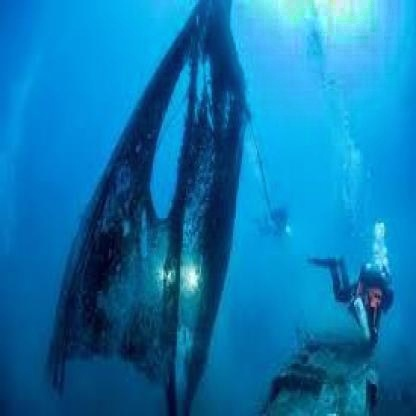net: (48, 2, 239, 409)
